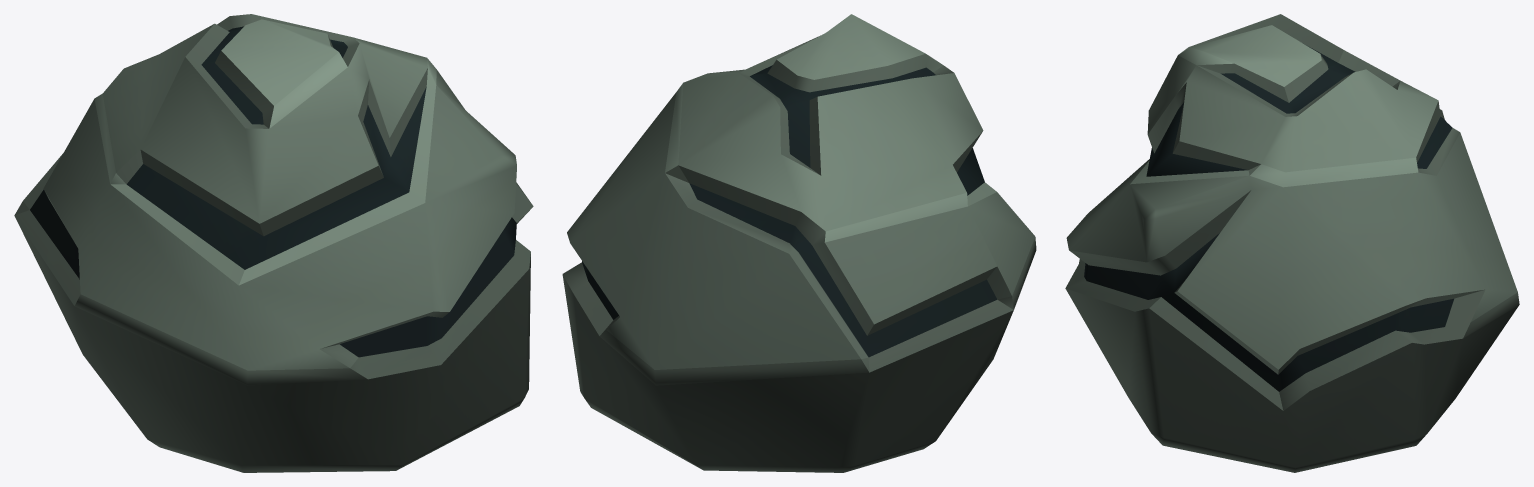
File: ore_veins_coal_M.fbx
3 views of the same model, side by side, from view 1: azimuth 30°, elevation 25°; view 2: azimuth 150°, elevation 25°; view 3: azimuth 270°, elevation 25° (orthographic). The views are drawn at different scales.
Parts seen in each view (by area): view 1: ore_veins_coal_M; view 2: ore_veins_coal_M; view 3: ore_veins_coal_M.
Part boxes in pixels (box(x1,y1,x2,y2)): ore_veins_coal_M: box(14, 14, 533, 472); ore_veins_coal_M: box(562, 14, 1036, 472); ore_veins_coal_M: box(1065, 14, 1519, 472).
Size of the model in its own units: 137 by 132 by 139.
Materials: 1 (1 with a texture image).
